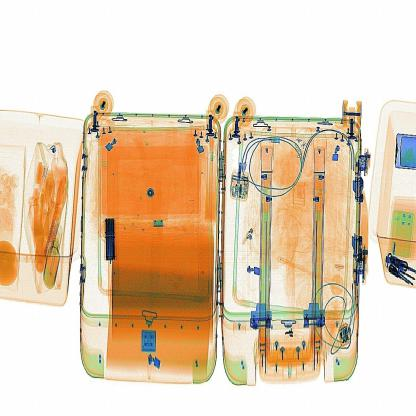scissors: (104, 209, 128, 270)
